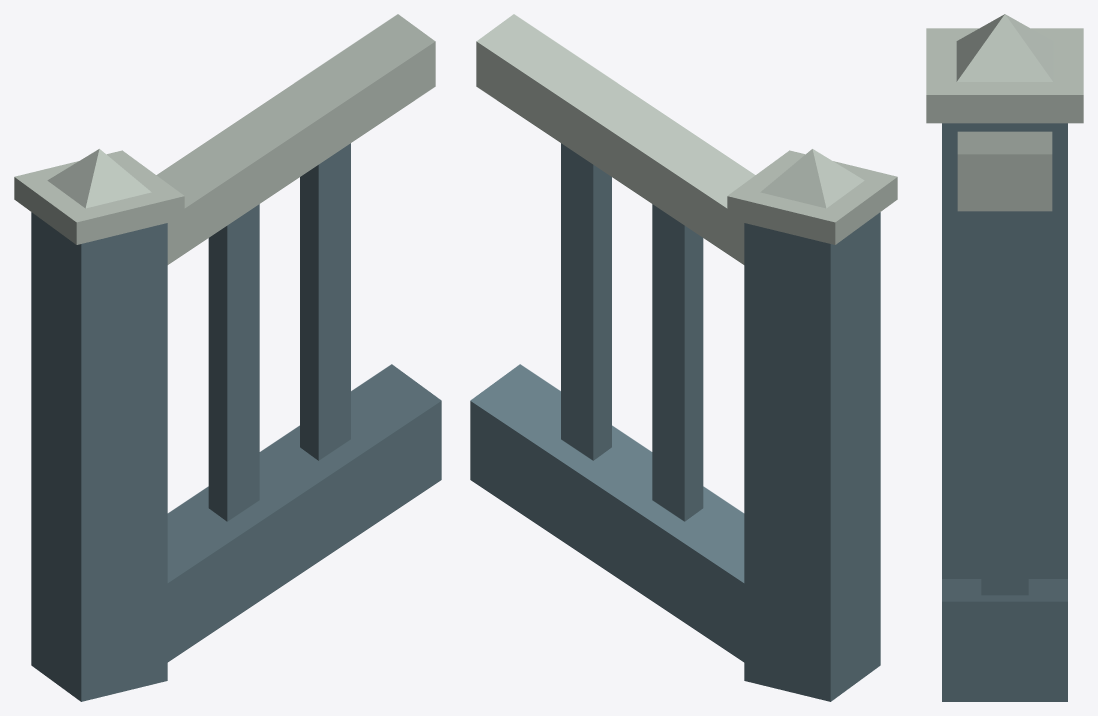
Rendered from rail_stair_22deg_1m.glb.
3 views of the same model, side by side, from view 1: azimuth 30°, elevation 25°; view 2: azimuth 150°, elevation 25°; view 3: azimuth 270°, elevation 25° (orthographic). The views are drawn at different scales.
Parts seen in each view (by area): view 1: RailStair22Deg1M / Stone, RailStair22Deg1M / Coping; view 2: RailStair22Deg1M / Stone, RailStair22Deg1M / Coping; view 3: RailStair22Deg1M / Stone, RailStair22Deg1M / Coping.
Part boxes in pixels (<box>): RailStair22Deg1M / Stone: <box>31,143,441,701</box>; RailStair22Deg1M / Coping: <box>14,14,435,264</box>; RailStair22Deg1M / Stone: <box>470,143,880,701</box>; RailStair22Deg1M / Coping: <box>476,14,897,264</box>; RailStair22Deg1M / Stone: <box>942,123,1067,701</box>; RailStair22Deg1M / Coping: <box>926,14,1083,211</box>.
Size of the model in its own units: 1.03 by 1.51 by 0.3.
